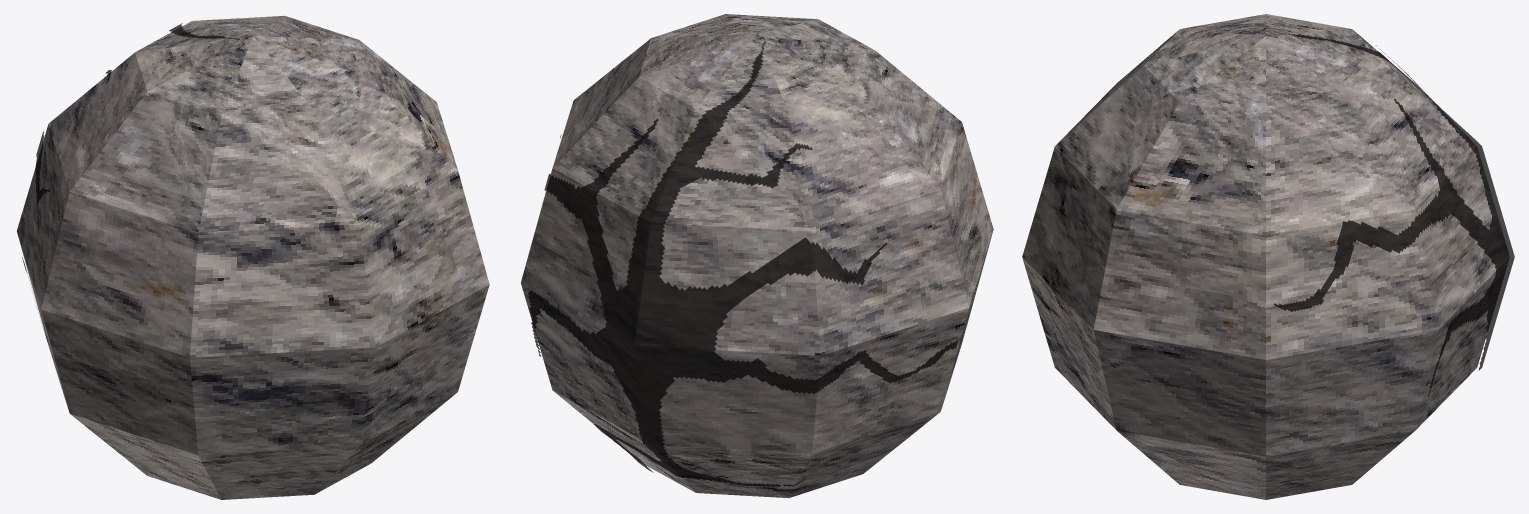
Rendered from boulder.glb.
3 views of the same model, side by side, from view 1: azimuth 30°, elevation 25°; view 2: azimuth 150°, elevation 25°; view 3: azimuth 270°, elevation 25° (orthographic).
Parts seen in each view (by area): view 1: Sphere; view 2: Sphere; view 3: Sphere.
Boxes of the visible parts, x1=… form: Sphere: x1=17, y1=15, x2=489, y2=499; Sphere: x1=521, y1=14, x2=993, y2=498; Sphere: x1=1022, y1=14, x2=1514, y2=499.
Size of the model in its own units: 2 by 2 by 2.02.
2 materials, 2 textured.
